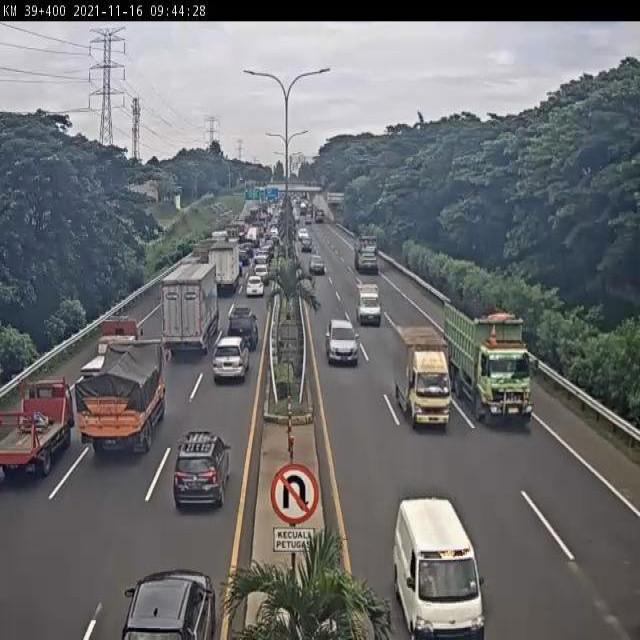car: (394, 502, 484, 640), (172, 435, 231, 505), (225, 309, 259, 359), (211, 341, 246, 387), (326, 318, 360, 362), (244, 278, 263, 298)
small truck: (0, 385, 71, 483), (76, 317, 137, 380), (356, 284, 383, 325)
truck-l-: (442, 306, 534, 426), (158, 264, 218, 364), (355, 232, 379, 275)
truck-m-: (73, 341, 167, 460), (392, 325, 453, 427), (205, 241, 242, 295)
